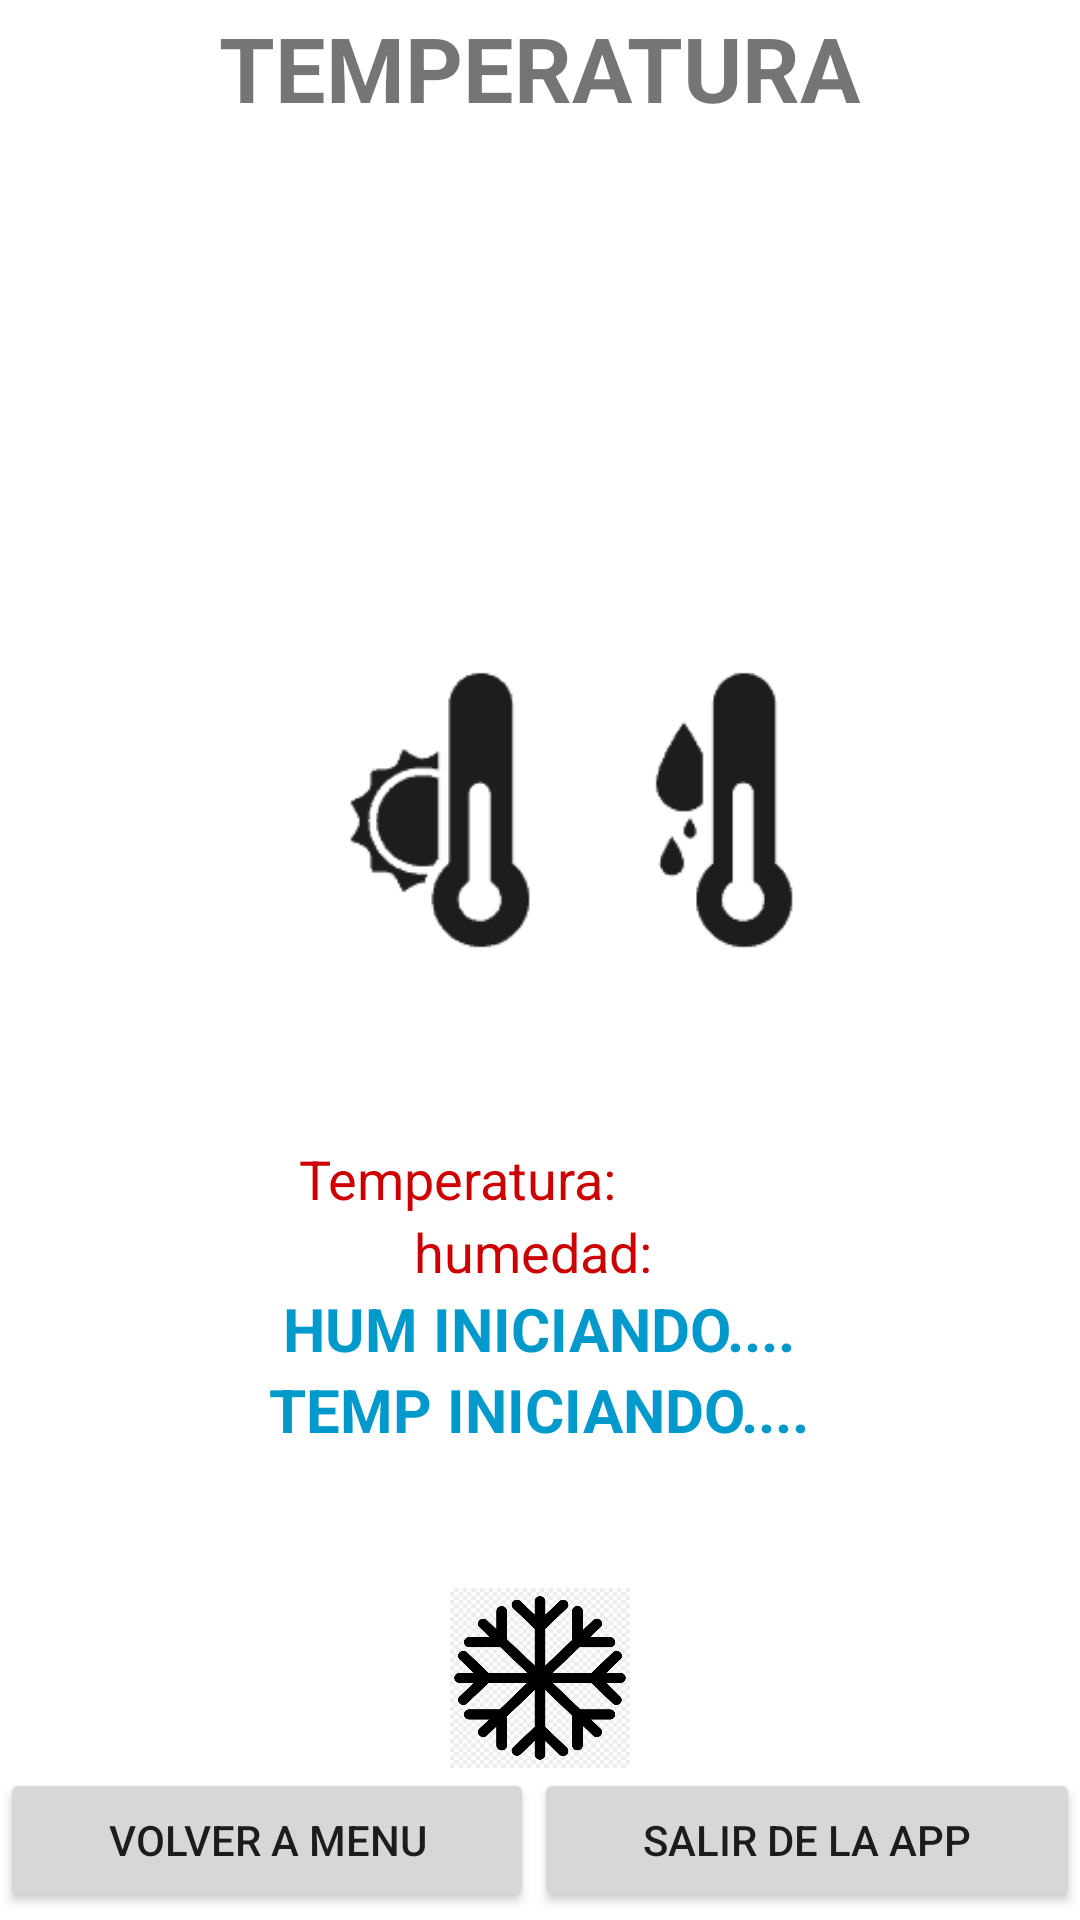

Where to tap for icons on this 1080×1920 app screen, as point (x, y):
aireoff: point (540, 1678)
